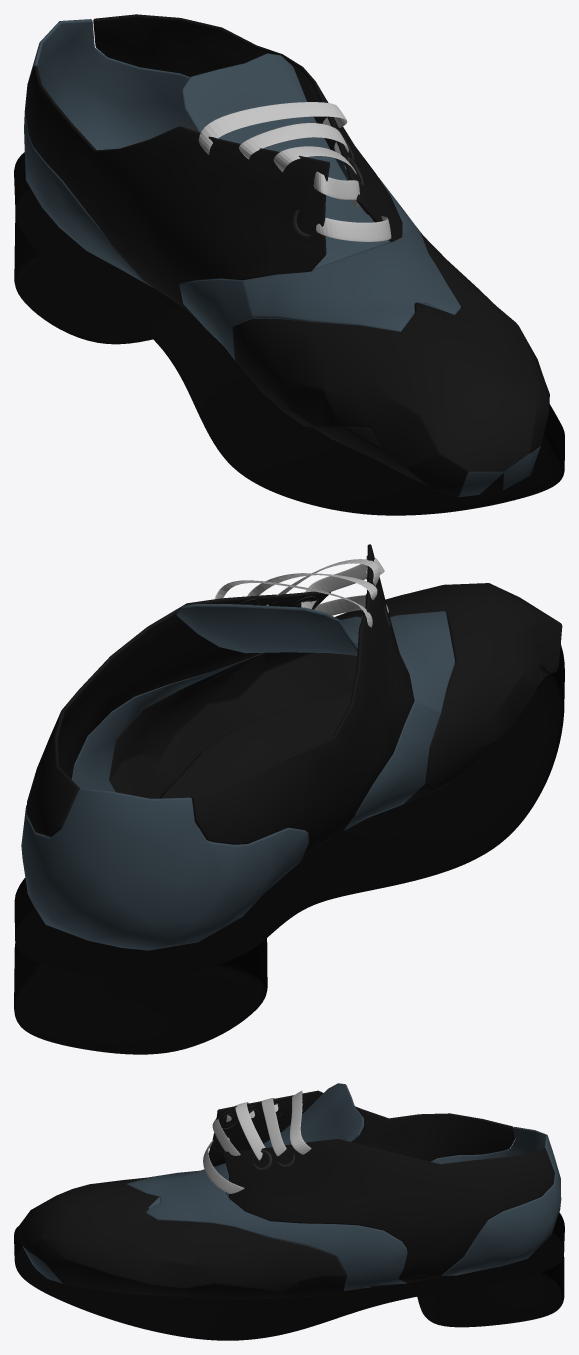
Rendered from za2ot1izquierda.fbx.
3 views of the same model, one above another, from view 1: azimuth 30°, elevation 25°; view 2: azimuth 150°, elevation 25°; view 3: azimuth 270°, elevation 25° (orthographic). The views are drawn at different scales.
Parts seen in each view (by area): view 1: zapato2, Plane, Plane.004, Plane.003, Plane.005, Plane.002, Plane.001; view 2: zapato2, Plane, Plane.002, Plane.003, Plane.005, Plane.004; view 3: zapato2, Plane, Plane.001, Plane.003, Plane.004, Plane.005, Plane.002.
Boxes of the visible parts, x1=… form: zapato2: x1=24, y1=14, x2=549, y2=497; Plane: x1=14, y1=152, x2=564, y2=515; Plane.004: x1=198, y1=102, x2=347, y2=154; Plane.003: x1=239, y1=123, x2=348, y2=159; Plane.005: x1=316, y1=216, x2=391, y2=241; Plane.002: x1=313, y1=171, x2=359, y2=207; Plane.001: x1=273, y1=146, x2=356, y2=174; zapato2: x1=21, y1=544, x2=562, y2=950; Plane: x1=14, y1=644, x2=564, y2=1054; Plane.002: x1=301, y1=558, x2=384, y2=608; Plane.003: x1=247, y1=573, x2=377, y2=610; Plane.005: x1=314, y1=595, x2=388, y2=615; Plane.004: x1=215, y1=580, x2=372, y2=627; zapato2: x1=18, y1=1083, x2=561, y2=1298; Plane: x1=14, y1=1212, x2=564, y2=1340; Plane.001: x1=235, y1=1102, x2=265, y2=1160; Plane.003: x1=261, y1=1098, x2=286, y2=1156; Plane.004: x1=290, y1=1091, x2=311, y2=1154; Plane.005: x1=203, y1=1137, x2=244, y2=1193; Plane.002: x1=212, y1=1115, x2=240, y2=1155.
Size of the model in its own units: 169 by 176 by 447.
